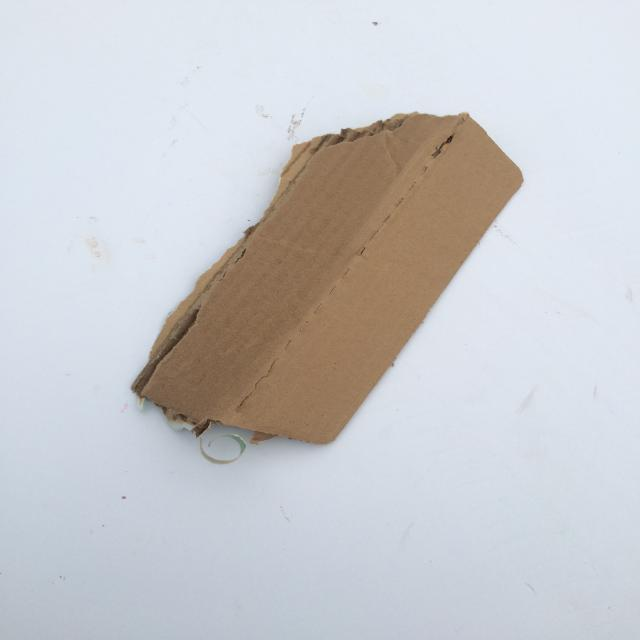cardboard: (121, 71, 540, 484)
